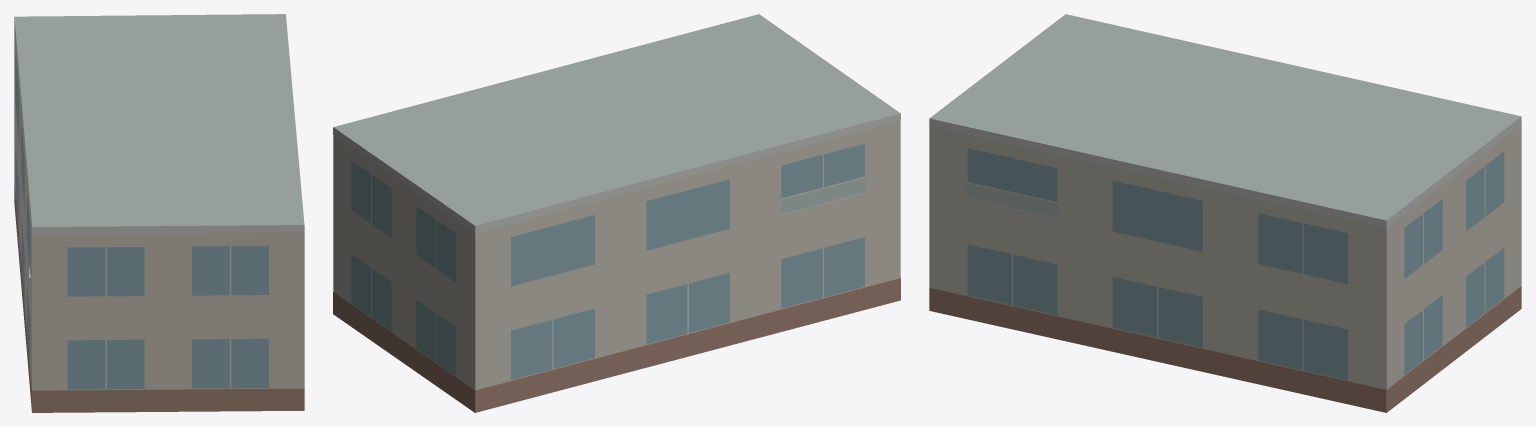
The model's file is survey-upis-32894601.glb.
3 views of the same model, side by side, from view 1: azimuth 30°, elevation 25°; view 2: azimuth 150°, elevation 25°; view 3: azimuth 270°, elevation 25° (orthographic). The views are drawn at different scales.
Parts seen in each view (by area): view 1: survey-upis-32894601.tmp; view 2: survey-upis-32894601.tmp; view 3: survey-upis-32894601.tmp.
Part boxes in pixels (x1,y1,x2,y2): survey-upis-32894601.tmp: (14, 14, 304, 412); survey-upis-32894601.tmp: (333, 14, 900, 412); survey-upis-32894601.tmp: (929, 14, 1521, 412).
Bounding box in the file's own units: 14.05 × 6.1 × 17.03.
